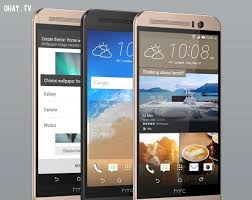htc: (130, 8, 225, 200)
